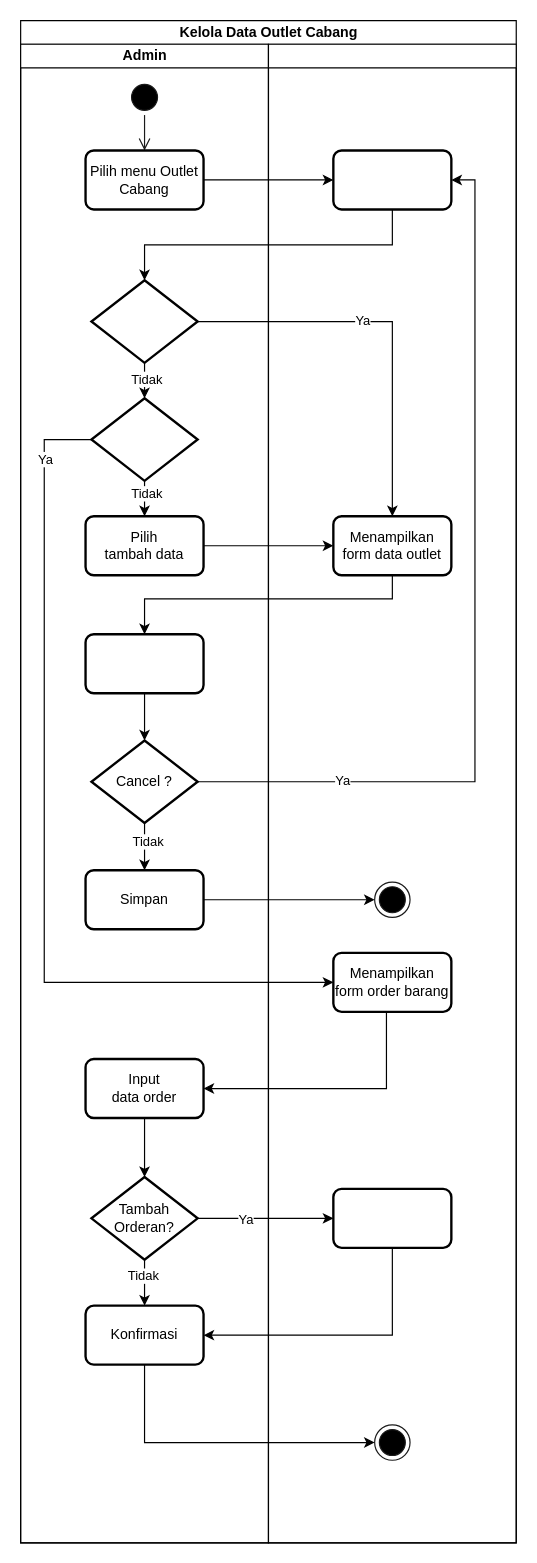
The diagram is 537 pixels wide and 1563 high, and some of its shapes have lost their labels. The shapes that lost their labels are listed below. From the top down, each one's box as (x1, y1, x2, y2) in pixels, then its label:
(332, 149, 452, 210): Menampilkan Daftar Outlet Cabang
(90, 278, 198, 363): Edit ?
(90, 396, 198, 481): Order barang?
(84, 632, 204, 694): Input data otlet
(267, 43, 516, 1543): System
(332, 1187, 452, 1248): Menampilkan form order barang baru
